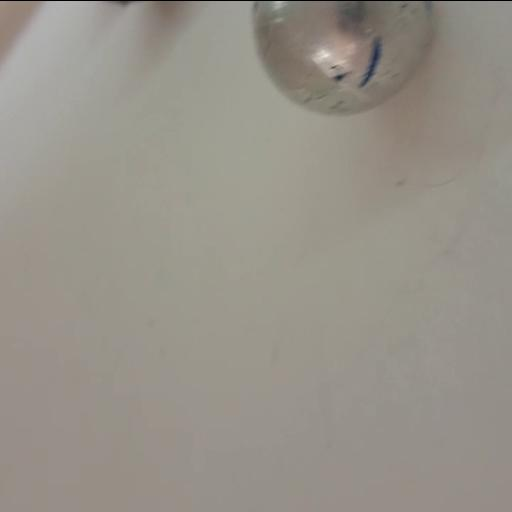alive: (252, 1, 439, 118)
